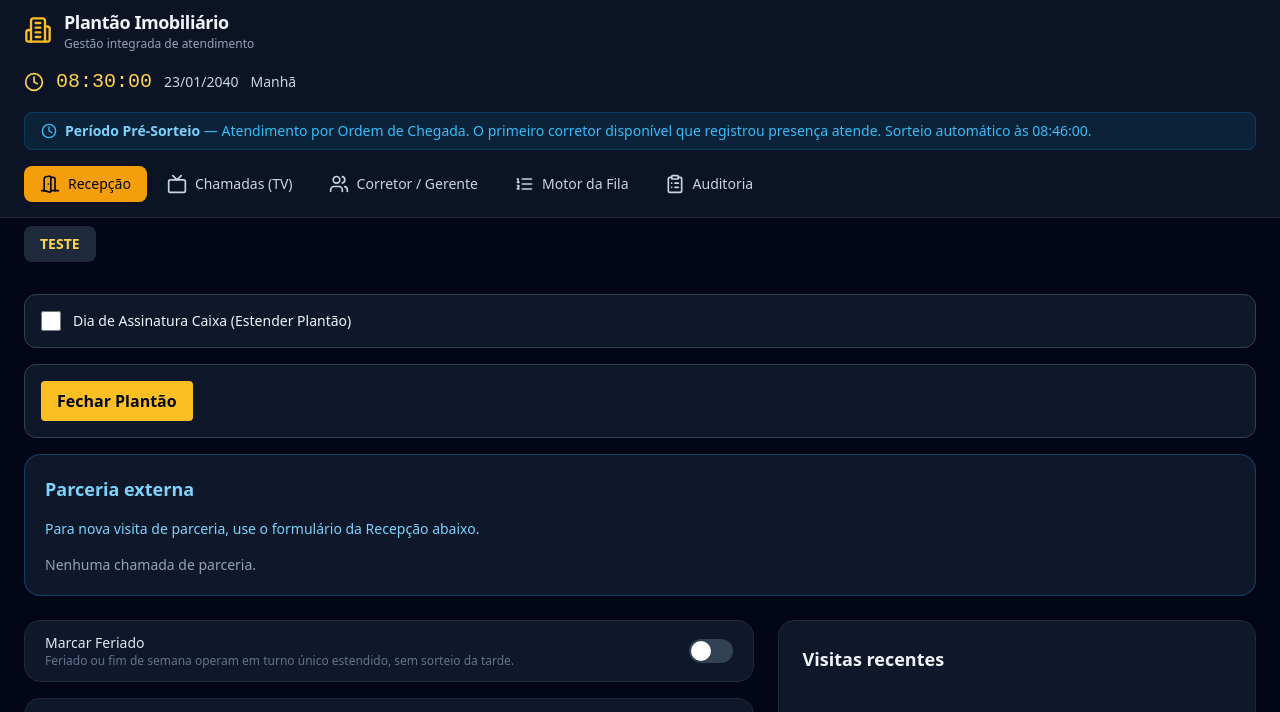
fixa somente aviso e controles de tempo do TESTE no topo, com fundo opaco e sem sobreposição do cabeçalho
Later steps or results of the test are not shown.
Click the button "TESTE" at (60,244), box 24,226 -> 96,262
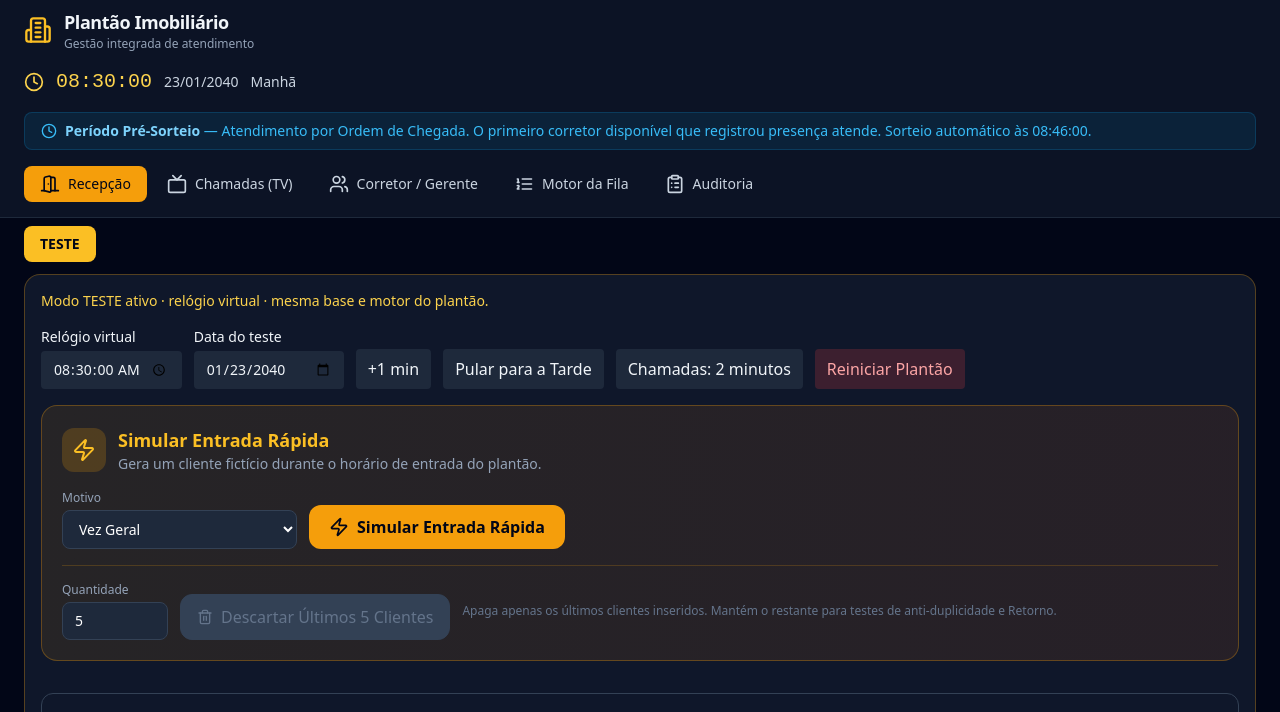
Result: the element named "Controles de tempo do TESTE" shows "Modo TESTE ativo" at 41,291 -> 489,310
Result: the time field labelled "Relógio virtual" is shown at 41,351 -> 182,389
Result: the date field labelled "Data do teste" is shown at 194,351 -> 344,389
